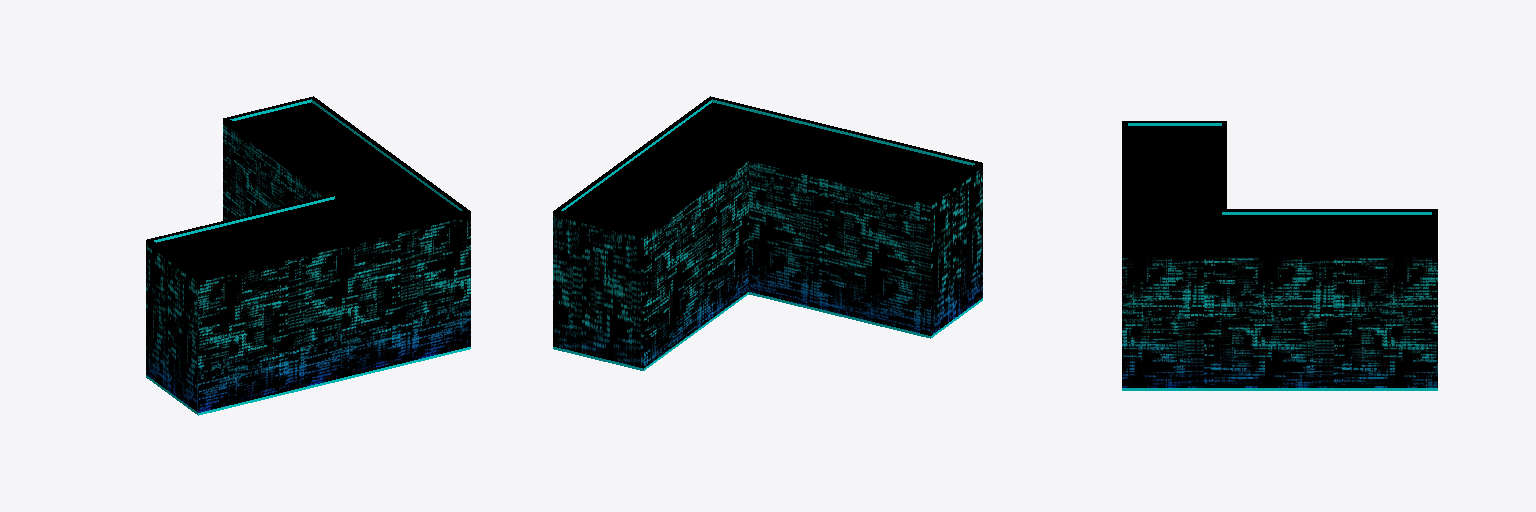
3 renders of one model, left to right at view 1: azimuth 30°, elevation 25°; view 2: azimuth 150°, elevation 25°; view 3: azimuth 270°, elevation 25°, orthographic.
Visible parts, largest first — view 1: Cube; view 2: Cube; view 3: Cube.
Boxes of the visible parts, box(x1,y1,x2,y2) form: Cube: box(146, 96, 470, 415); Cube: box(553, 96, 982, 370); Cube: box(1122, 121, 1437, 390).
Size of the model in its own units: 180 by 86.55 by 180.
Materials: 3 (1 with a texture image).